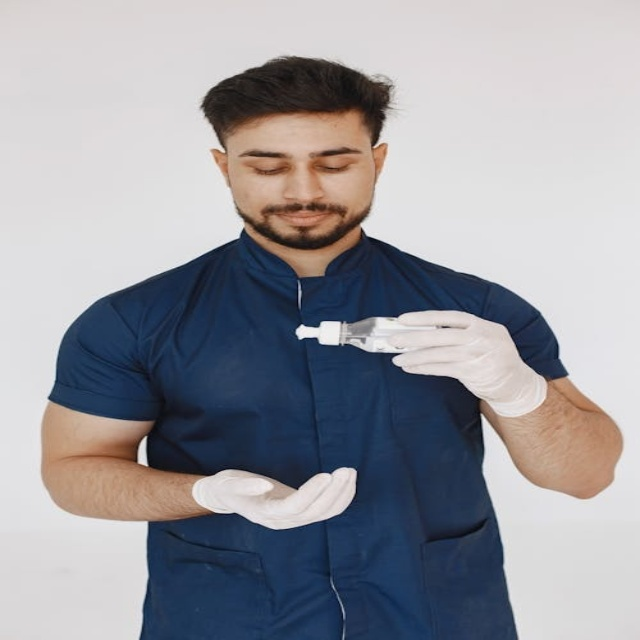Guantes: (383, 310, 547, 416), (193, 466, 357, 530)
Sin_gafas: (233, 144, 364, 177)
Sin_mascara: (255, 203, 344, 239)
